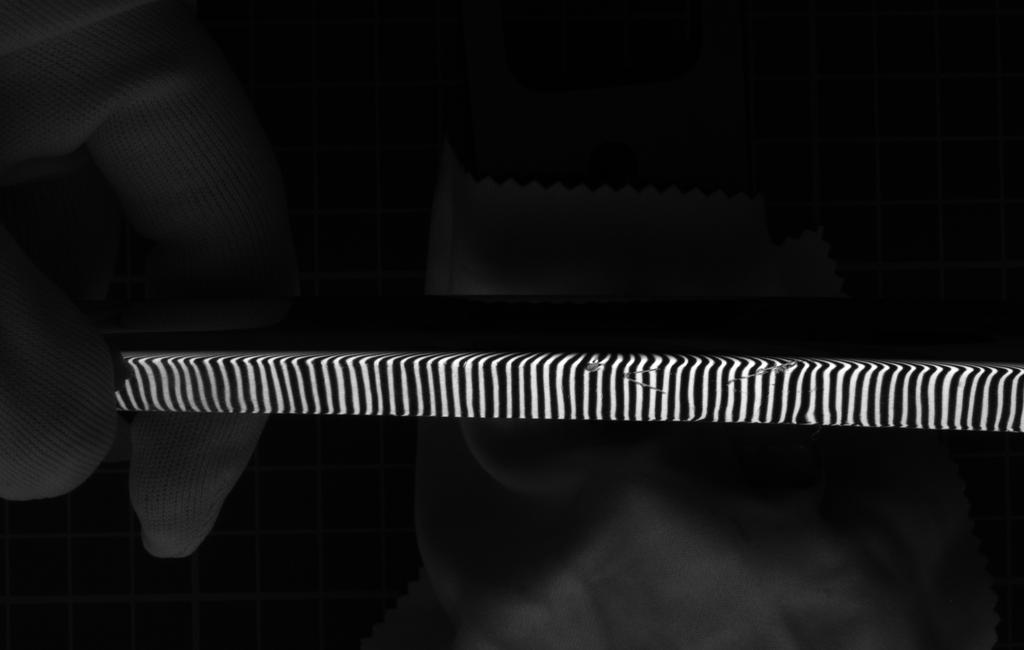Pierced: (578, 355, 609, 383)
Scratch: (710, 355, 811, 400), (610, 361, 672, 407)
